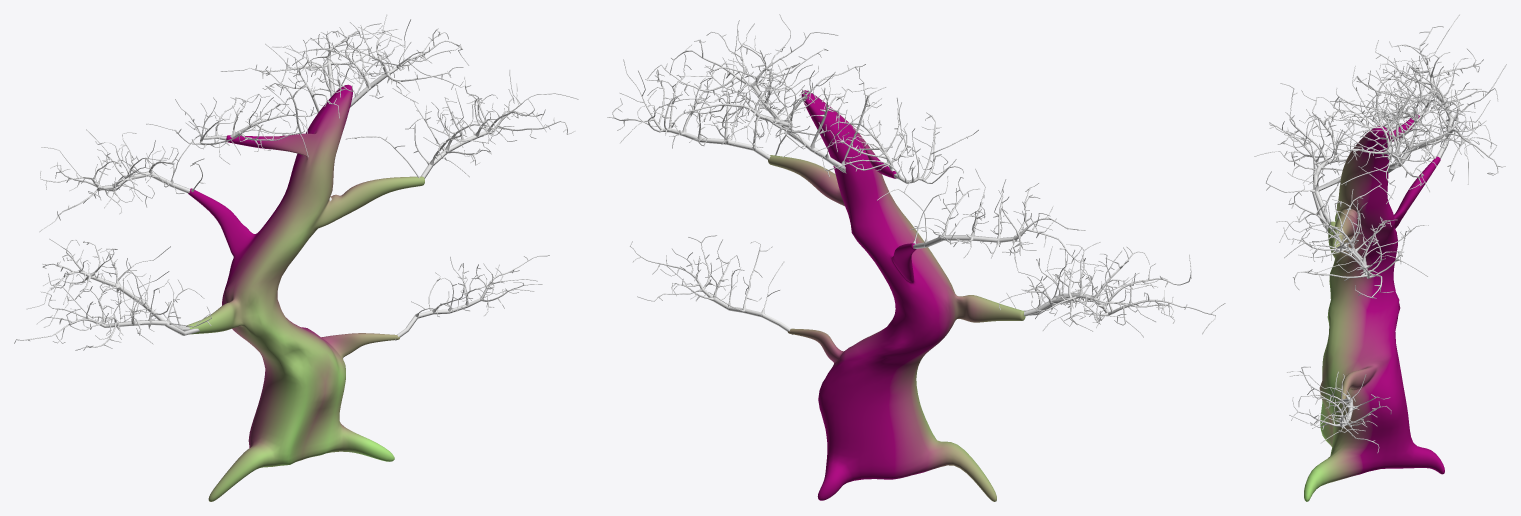
The model's file is grown-v01.glb.
3 views of the same model, side by side, from view 1: azimuth 30°, elevation 25°; view 2: azimuth 150°, elevation 25°; view 3: azimuth 270°, elevation 25° (orthographic). The views are drawn at different scales.
Parts seen in each view (by area): view 1: Continuous aged trunk and primary branches, Terminal twig hierarchy; view 2: Continuous aged trunk and primary branches, Terminal twig hierarchy; view 3: Continuous aged trunk and primary branches, Terminal twig hierarchy.
Part boxes in pixels (x1,y1,x2,y2): Continuous aged trunk and primary branches: (186, 84, 424, 501); Terminal twig hierarchy: (14, 14, 578, 350); Continuous aged trunk and primary branches: (768, 90, 1025, 501); Terminal twig hierarchy: (607, 14, 1225, 337); Continuous aged trunk and primary branches: (1304, 114, 1444, 501); Terminal twig hierarchy: (1254, 14, 1506, 453).
Size of the model in its own units: 2.71 by 1.92 by 1.01.
